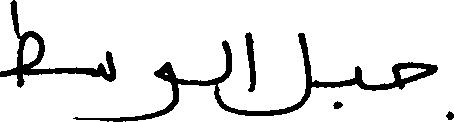X: (257, 28, 312, 120), (391, 57, 453, 121), (0, 0, 43, 92), (90, 46, 117, 121), (156, 57, 179, 121), (245, 27, 255, 120), (223, 35, 232, 117), (356, 61, 362, 93)
